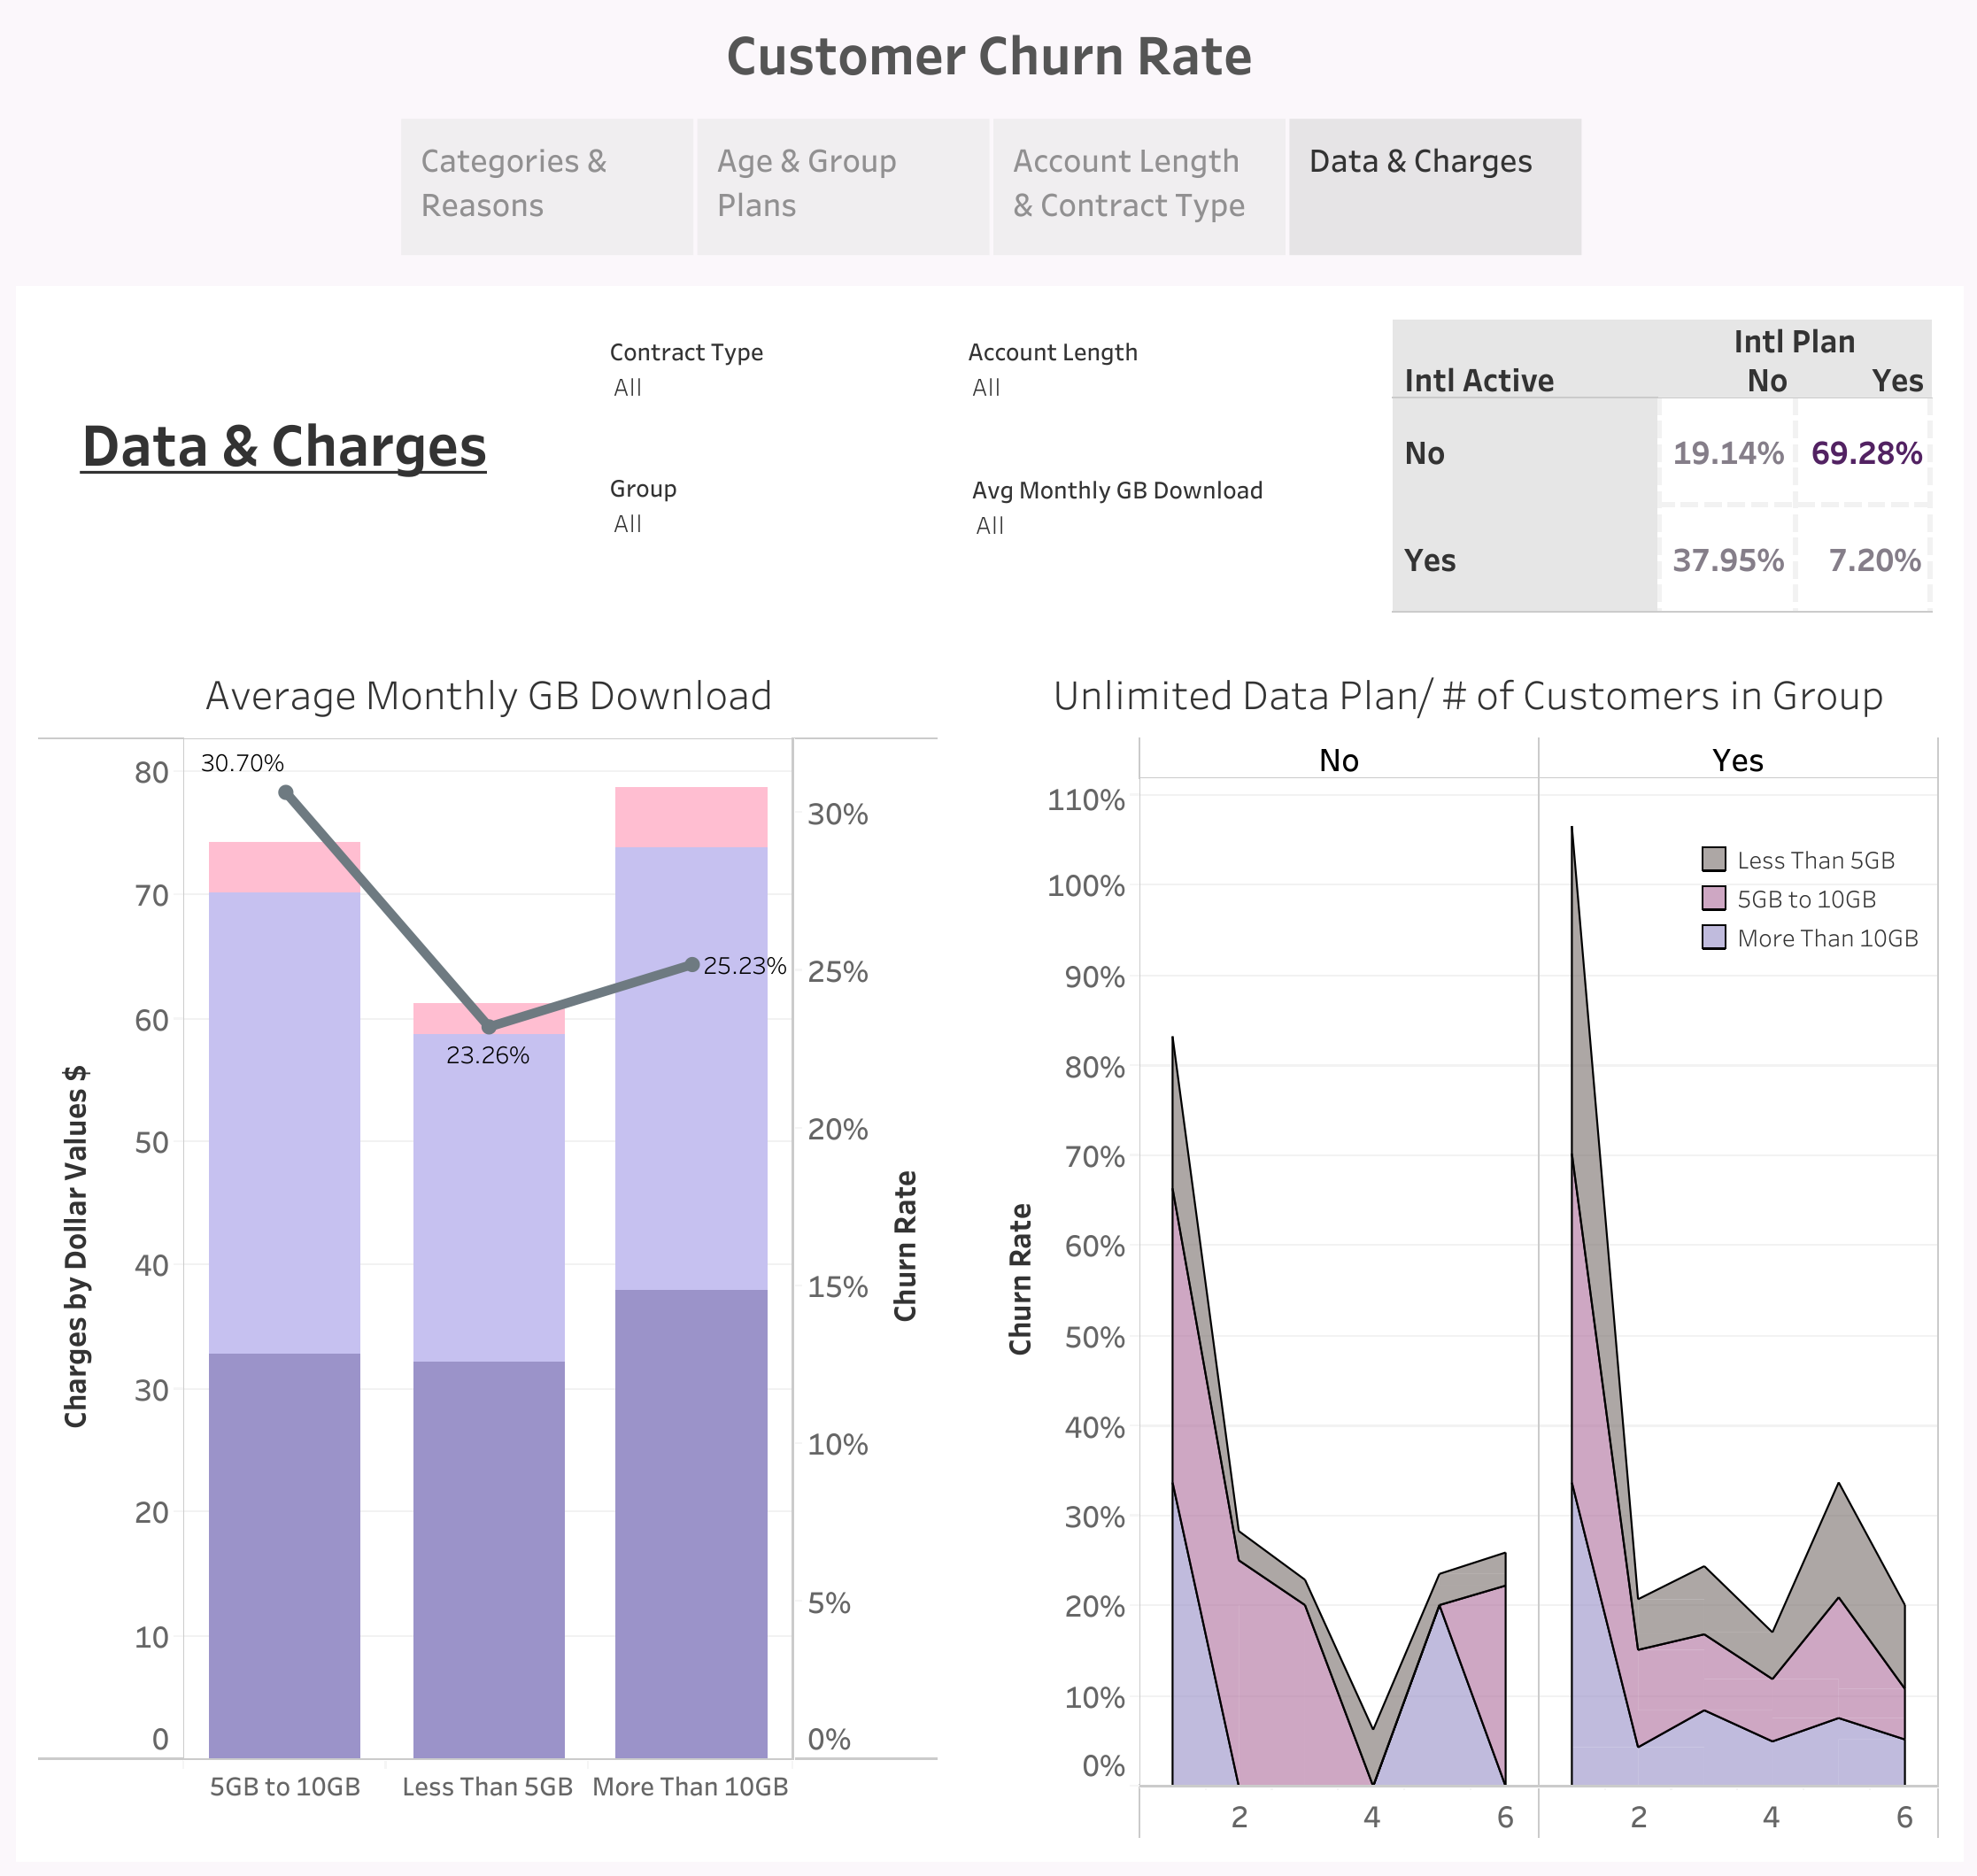

The dashboard page shown, as its layout file describes it:
{"tool":"tableau","page":{"name":"Data & Charges","canvas":[1000,1000],"units":"permille","ordinal":3},"visuals":[{"type":"text","box":[72.6,8.1,529.6,82.1]},{"type":"worksheet","title":"Int Plan","mark":"Automatic","rows":["Intl Active"],"cols":["Intl Plan"],"box":[671.4,16.2,290.6,191.9]},{"type":"legend","title":"Data-Charges","param":"[federated.0ec1ye81p13lyy1en51lk16zfsb8].[:Measure Names]","box":[36,55.5,167.8,203.5]},{"type":"filter","title":"Data-Charges","param":"[federated.0ec1ye81p13lyy1en51lk16zfsb8].[none:Contract Type:nk]","box":[234.1,87.9,143.9,85.5]},{"type":"filter","title":"Monthly Charge","param":"[federated.0ec1ye81p13lyy1en51lk16zfsb8].[none:Calculation_1712634546598289408:n","box":[399.2,89,143.2,60.1]},{"type":"filter","title":"Data-Charges","param":"[federated.0ec1ye81p13lyy1en51lk16zfsb8].[none:Group:nk]","box":[234.1,152.6,146.7,75.1]},{"type":"filter","title":"Data-Charges","param":"[federated.0ec1ye81p13lyy1en51lk16zfsb8].[none:Calculation_1712634546621657090:n","box":[402,167.6,130.5,46.2]},{"type":"worksheet","title":"Data-Charges","mark":"Automatic","rows":["Calculation_6796917050756022275"],"cols":["Calculation_1712634546621657090"],"box":[5.6,228.9,459.8,761.9]},{"type":"worksheet","title":"Monthly Charge","mark":"Area","rows":["Calculation_6796917050756022275"],"cols":["Unlimited Data Plan","Number of Customers in Group (bin)"],"box":[488,228.9,506.4,761.9]}]}

Visuals, with their boxes on the dashboard's canvas, which has no fixed pixel size, in thousandths of its width and height (x1, y1, x2, y2). These are canvas units, not pixel positions in the 1977x1876 screenshot, which may show the page scaled, cropped or inside an application window:
text: box(73, 8, 602, 90)
"Int Plan" worksheet: box(671, 16, 962, 208)
"Data-Charges" legend: box(36, 56, 204, 259)
"Data-Charges" filter: box(234, 88, 378, 173)
"Monthly Charge" filter: box(399, 89, 542, 149)
"Data-Charges" filter: box(234, 153, 381, 228)
"Data-Charges" filter: box(402, 168, 532, 214)
"Data-Charges" worksheet: box(6, 229, 465, 991)
"Monthly Charge" worksheet (Area marks): box(488, 229, 994, 991)
